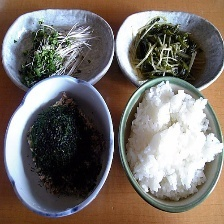rice: (124, 79, 224, 203)
